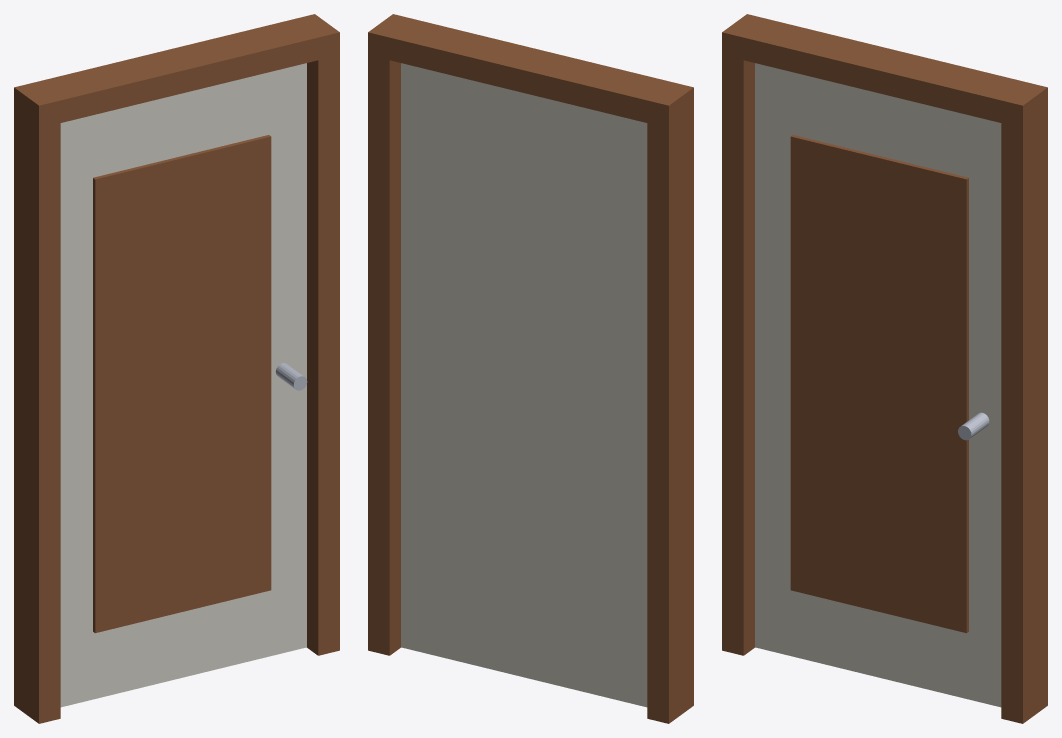
The model's file is porta_battente.glb.
The picture shows the model from 3 angles, left to right: view 1: azimuth 30°, elevation 25°; view 2: azimuth 150°, elevation 25°; view 3: azimuth 330°, elevation 25°; orthographic projection.
Visible parts, largest first — view 1: riquadro, pannello, stipite, stipite.001, traversa; view 2: pannello, stipite, stipite.001, traversa; view 3: riquadro, pannello, stipite.001, stipite, traversa.
Part boxes in pixels (box(x1,y1,x2,y2)): riquadro: box(93, 135, 271, 633); pannello: box(60, 63, 306, 707); stipite: box(14, 110, 60, 723); stipite.001: box(307, 55, 339, 655); traversa: box(14, 14, 339, 128); pannello: box(401, 63, 647, 707); stipite: box(647, 110, 693, 723); stipite.001: box(368, 55, 400, 655); traversa: box(368, 14, 693, 128); riquadro: box(790, 135, 968, 633); pannello: box(755, 63, 1001, 707); stipite.001: box(1001, 110, 1047, 723); stipite: box(722, 55, 754, 655); traversa: box(722, 14, 1047, 128).
Size of the model in its own units: 1.11 by 2.18 by 0.22.
